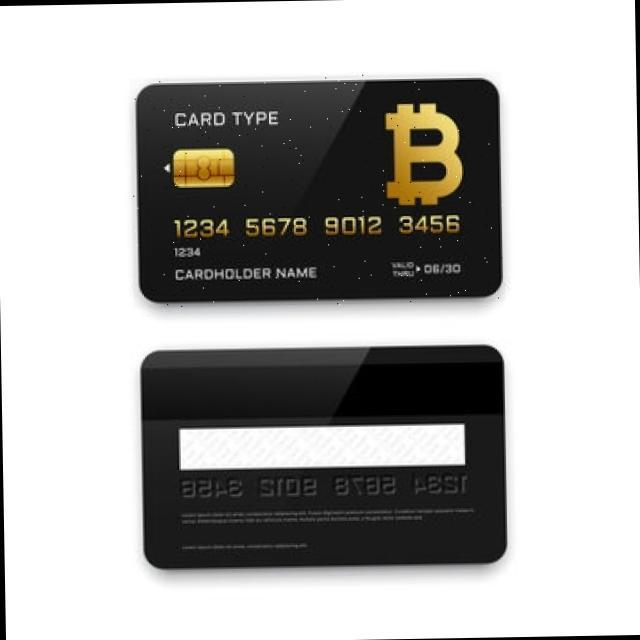payment_card: (134, 77, 502, 302), (140, 344, 507, 569)
